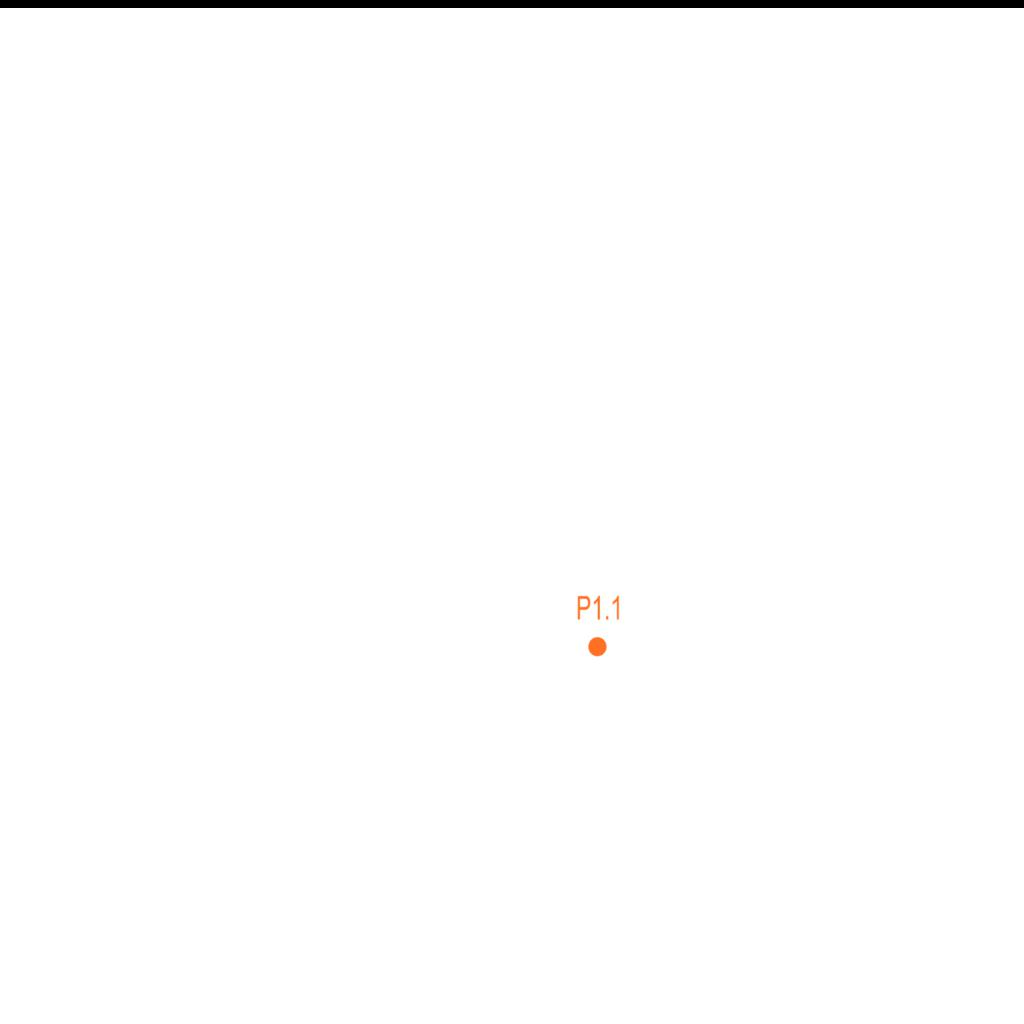Downlight_LED_Einbauleuchten_Flur_2: (576, 594, 622, 658)
